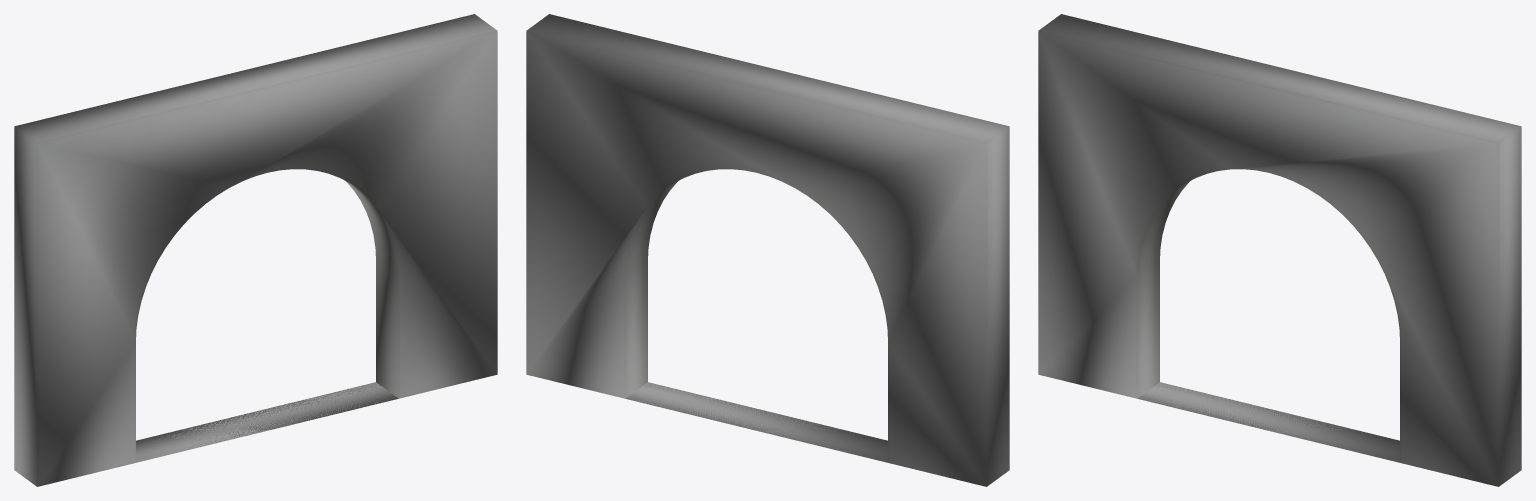
File: victorian-portal-unit-tripo-original.glb
The picture shows the model from 3 angles, left to right: view 1: azimuth 30°, elevation 25°; view 2: azimuth 150°, elevation 25°; view 3: azimuth 330°, elevation 25°; orthographic projection.
Visible parts, largest first — view 1: Authored_surface_001; view 2: Authored_surface_001; view 3: Authored_surface_001.
Part boxes in pixels (x1,y1,x2,y2): Authored_surface_001: (14,14,497,486); Authored_surface_001: (526,14,1009,486); Authored_surface_001: (1038,14,1521,486).
Size of the model in its own units: 1 by 0.7143 by 0.0857.
1 material, 1 textured.
